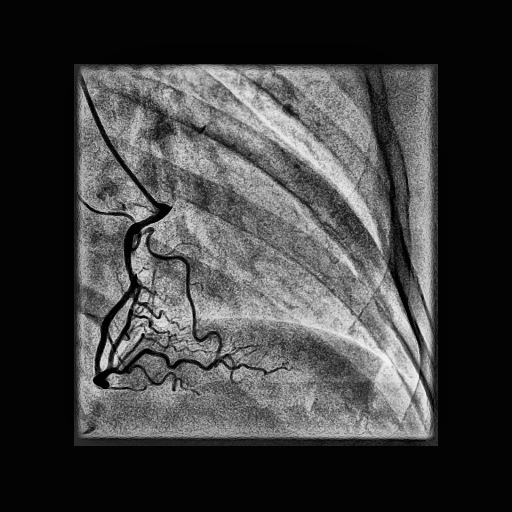pborca: (107, 285, 141, 370)
pda: (111, 348, 290, 375)
rca: (94, 207, 171, 389)
